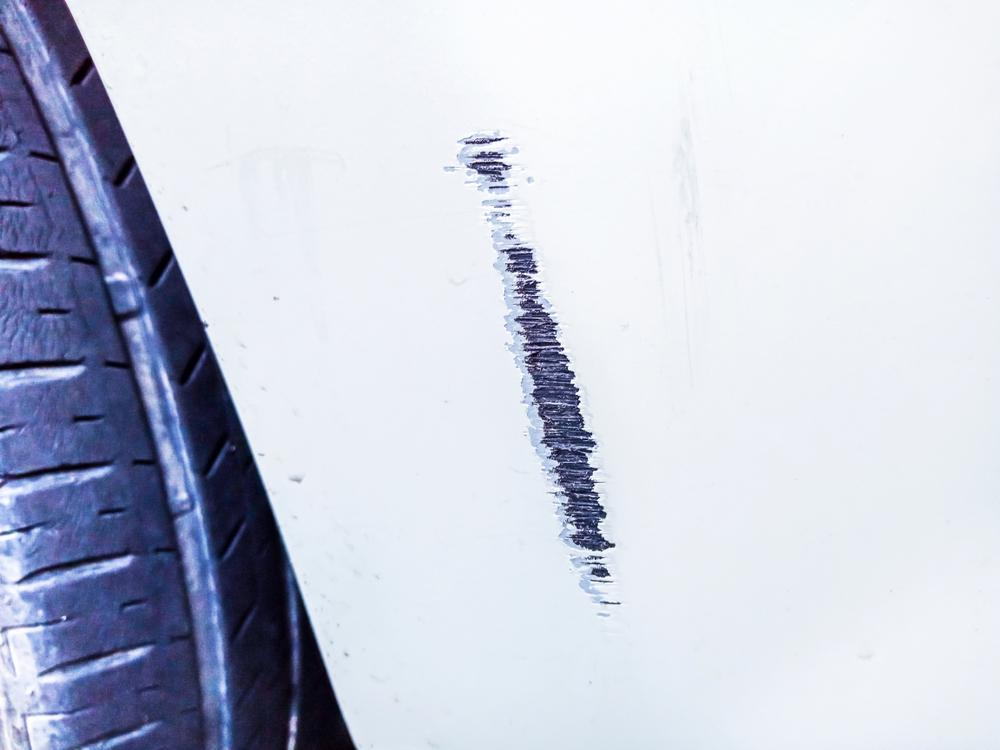scratch: (445, 125, 623, 638)
